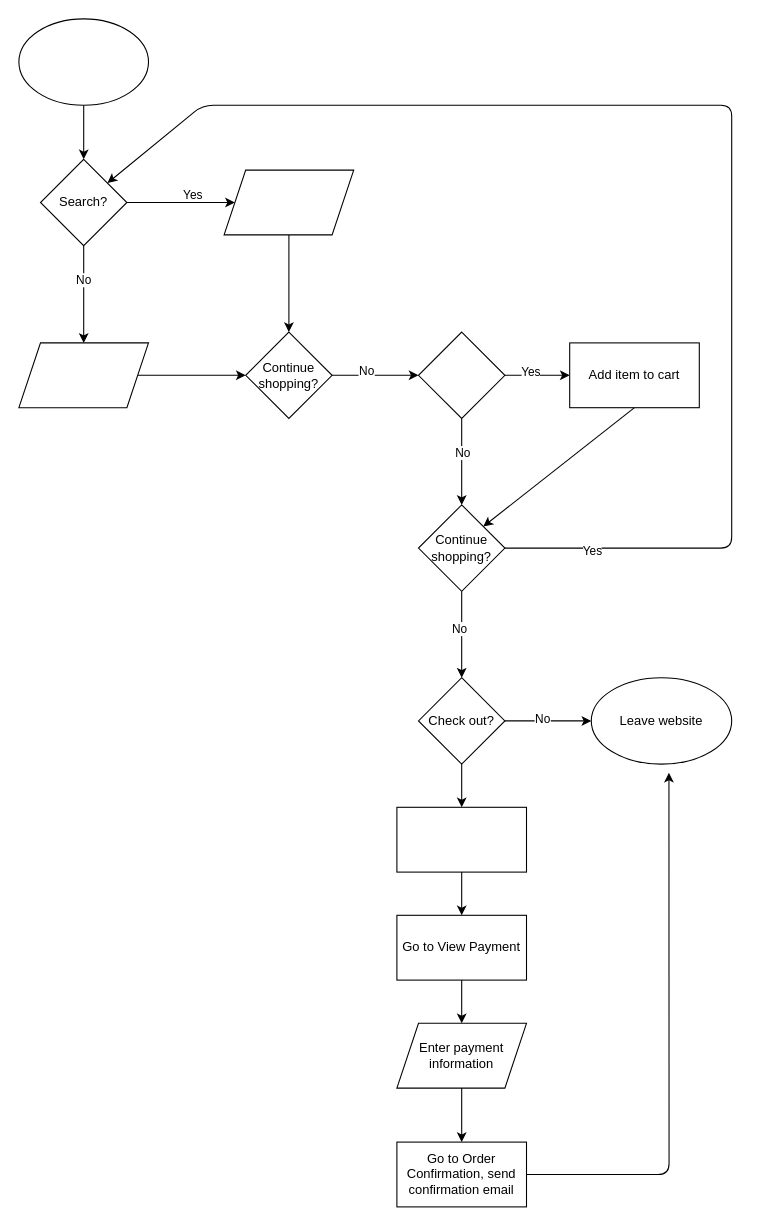
The diagram is 759 pixels wide and 1226 high, and some of its shapes have lost their labels. The shapes that lost their labels are listed below. From the top down, each one's box as (x1, y1, x2, y2) in pixels, then its label:
(18, 18, 148, 105): Start
(223, 169, 354, 235): User searches for product
(18, 342, 148, 408): User finds product on homepage
(417, 331, 505, 418): Confirm add to cart?
(396, 806, 526, 872): Go to View Cart
